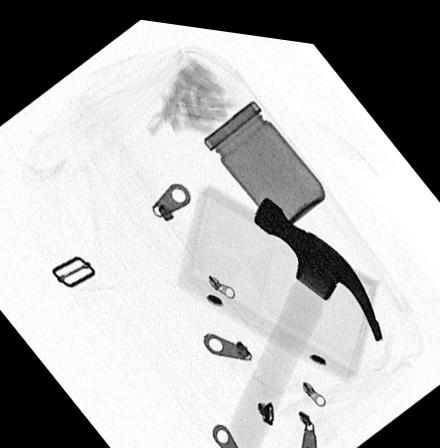Hammer: (219, 188, 383, 448)
